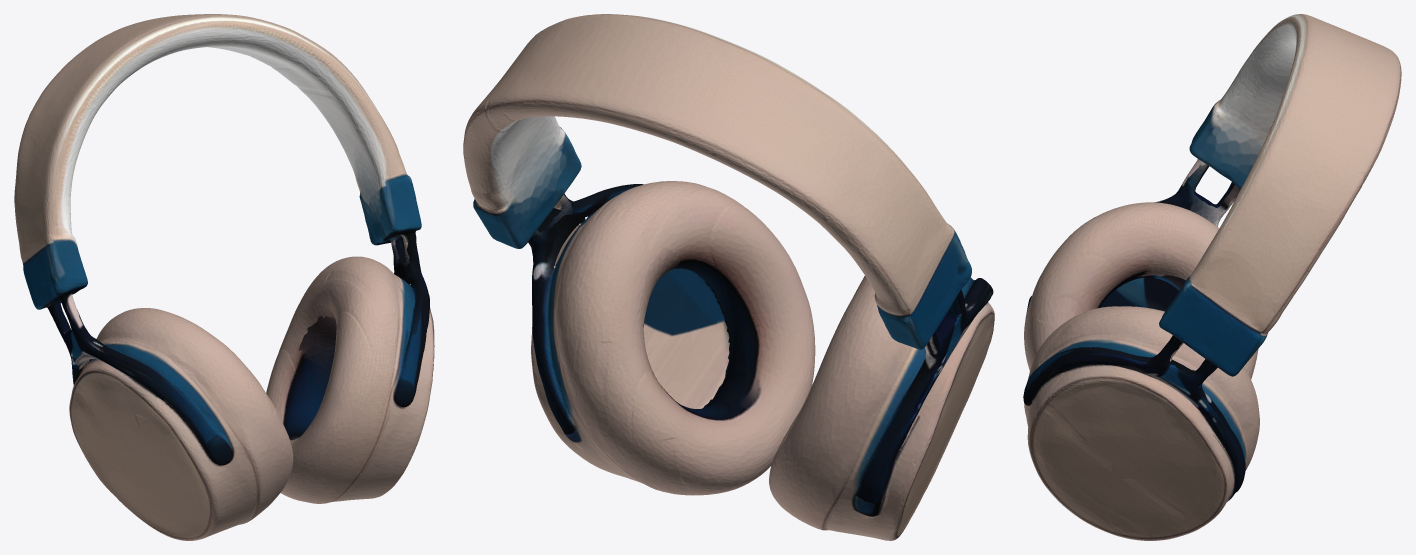
The picture shows the model from 3 angles, left to right: view 1: azimuth 30°, elevation 25°; view 2: azimuth 150°, elevation 25°; view 3: azimuth 270°, elevation 25°; orthographic projection. The views are drawn at different scales.
Visible parts, largest first — view 1: tmp33l4q_g2.ply; view 2: tmp33l4q_g2.ply; view 3: tmp33l4q_g2.ply.
Boxes of the visible parts, box(x1,y1,x2,y2) form: tmp33l4q_g2.ply: box(14, 14, 434, 540); tmp33l4q_g2.ply: box(463, 14, 994, 540); tmp33l4q_g2.ply: box(1023, 14, 1401, 540).
Size of the model in its own units: 1.75 by 2 by 1.5.
1 material, 1 textured.
